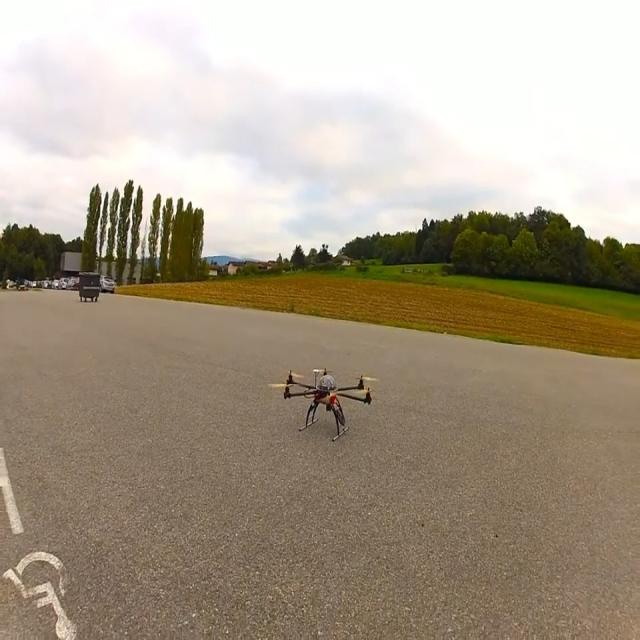drone: (268, 366, 377, 442)
